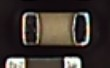COMP: (15, 8, 99, 49)
GAP: (21, 28, 82, 68)
